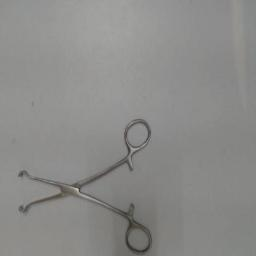Babcock Tissue Forceps: (16, 113, 156, 255)
